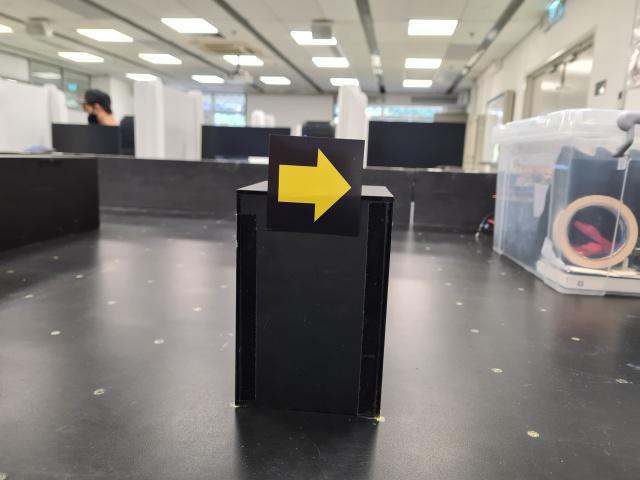right_arrow: (268, 133, 365, 233)
